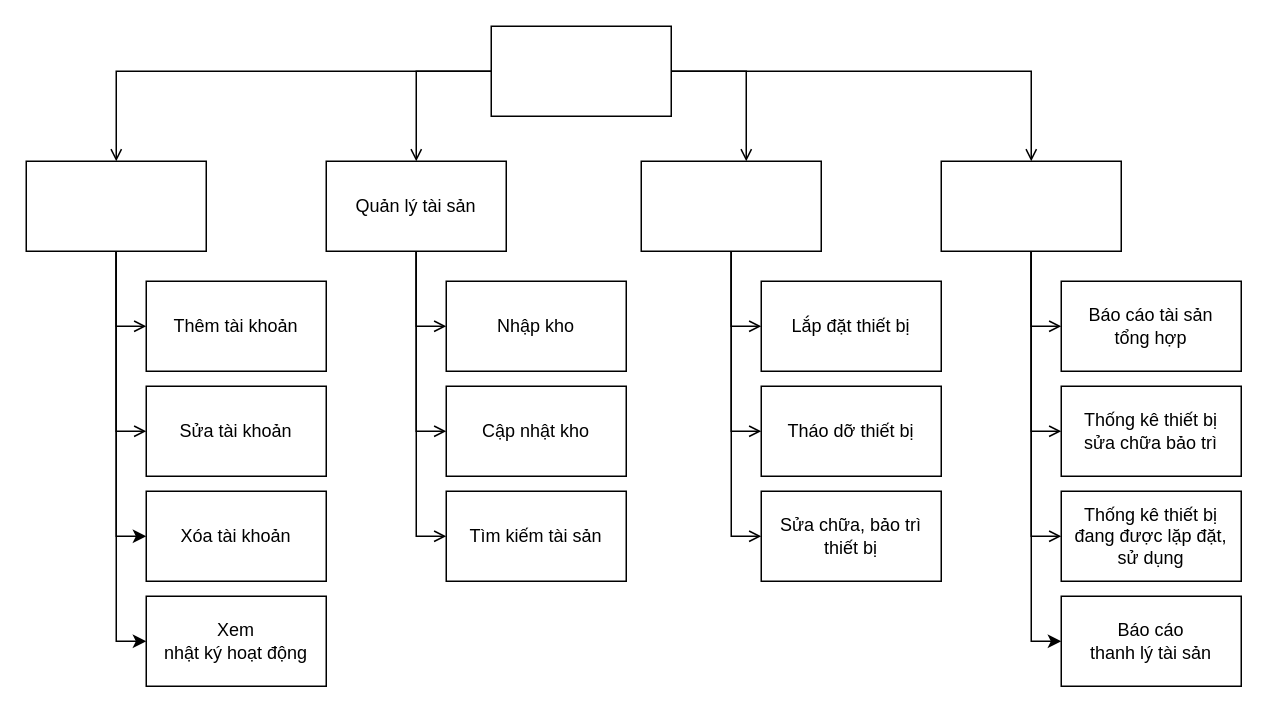
This 1268x713 diagram has some shape labels left out. Each missing label, with the box of its shape:
Báo cáo thống kê: (940, 160, 1121, 251)
QUẢN LÝ CSVC: (490, 25, 671, 116)
Quản lý thiết bị trang bị: (640, 160, 821, 251)
Quản trị hệ thống: (25, 160, 206, 251)
